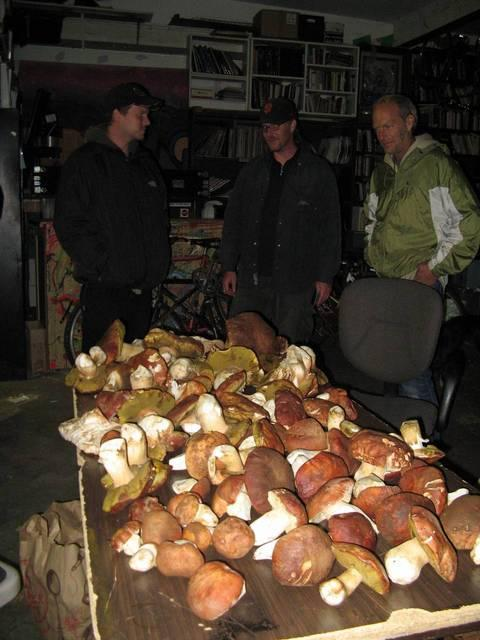edible_mushroom: (59, 319, 475, 619)
